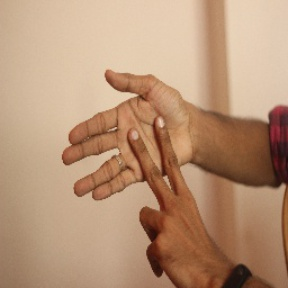N: (60, 65, 214, 250)
